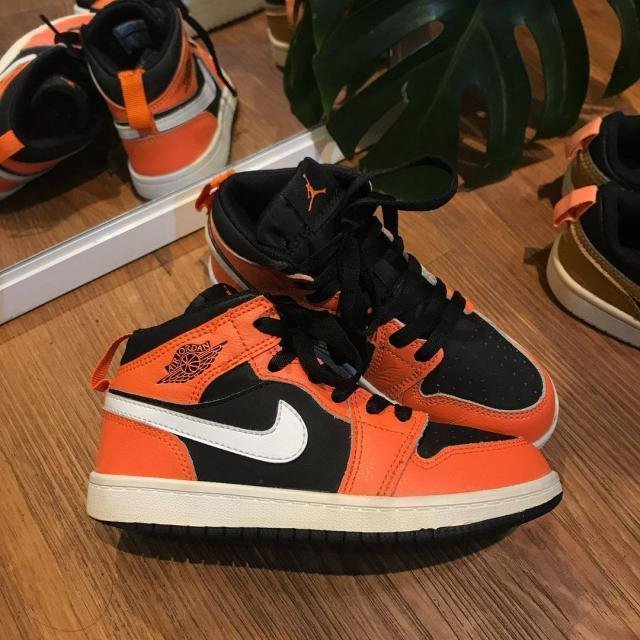nike fake jordan 1: (85, 286, 564, 550), (197, 156, 559, 454)
